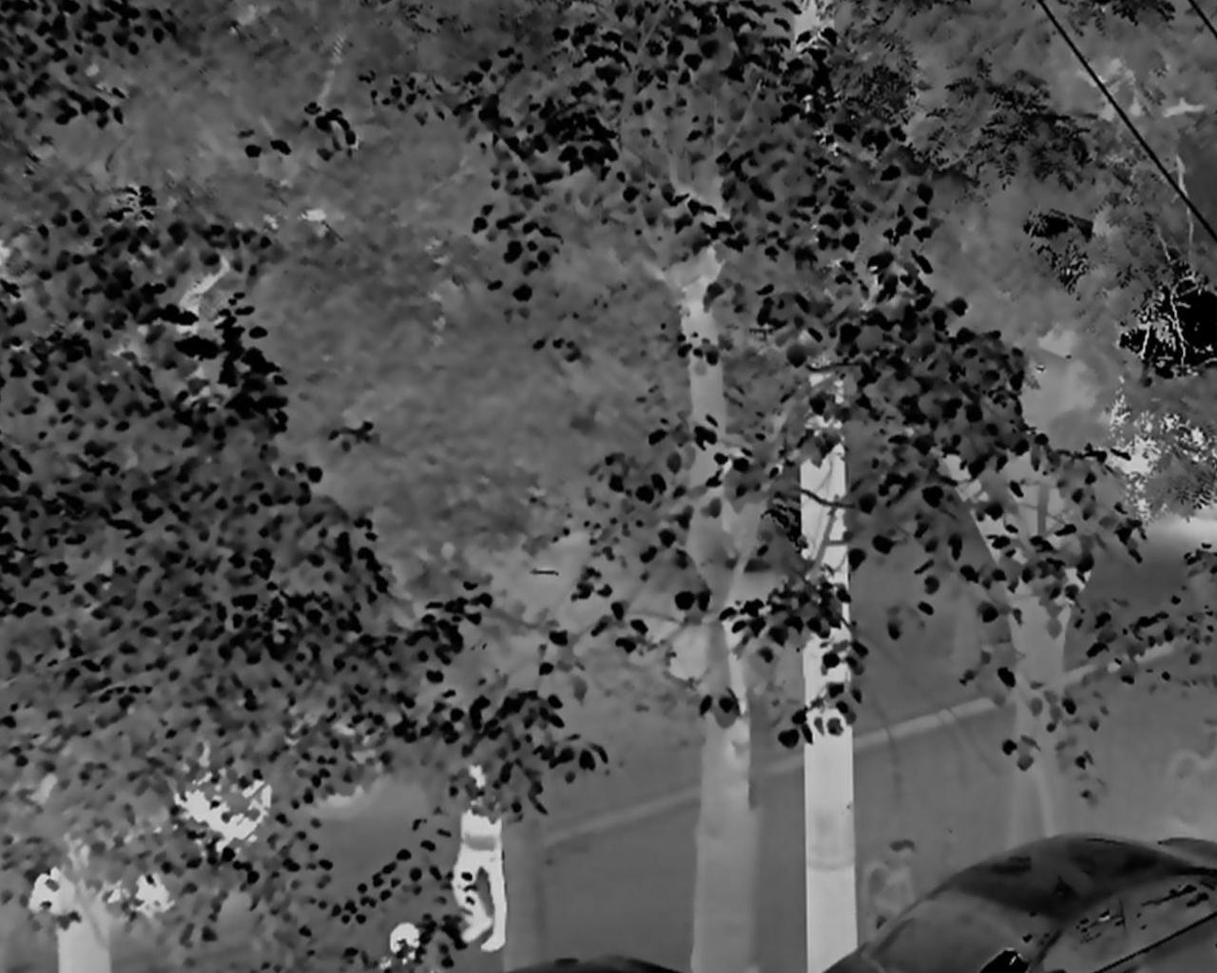person: (449, 759, 512, 953)
